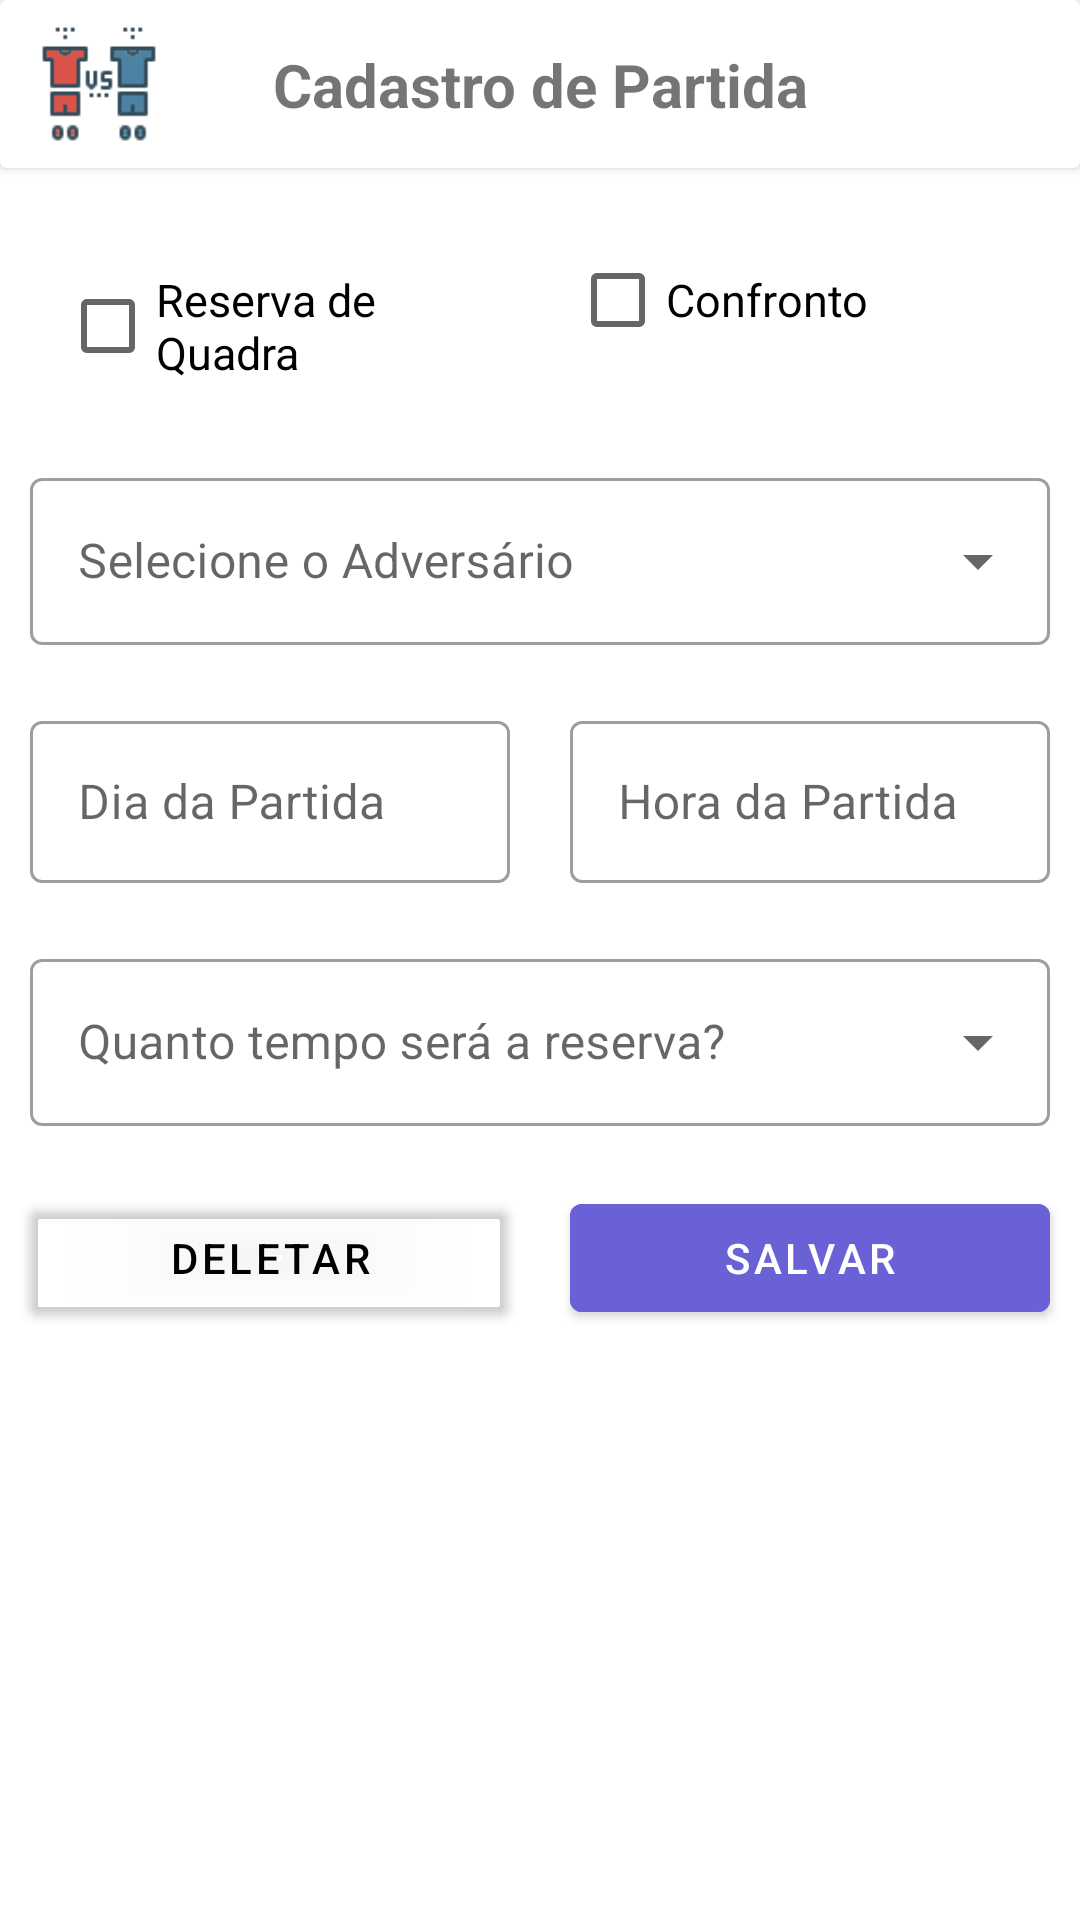

Locate icon controls on the screen. Image size 1080px×1920px, boxes as (x1, y1, x2, y2).
soccer match: (42, 27, 156, 141)
